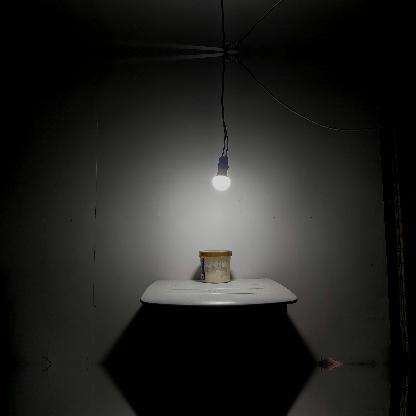Lady-s-Choice: (199, 249, 231, 282)
